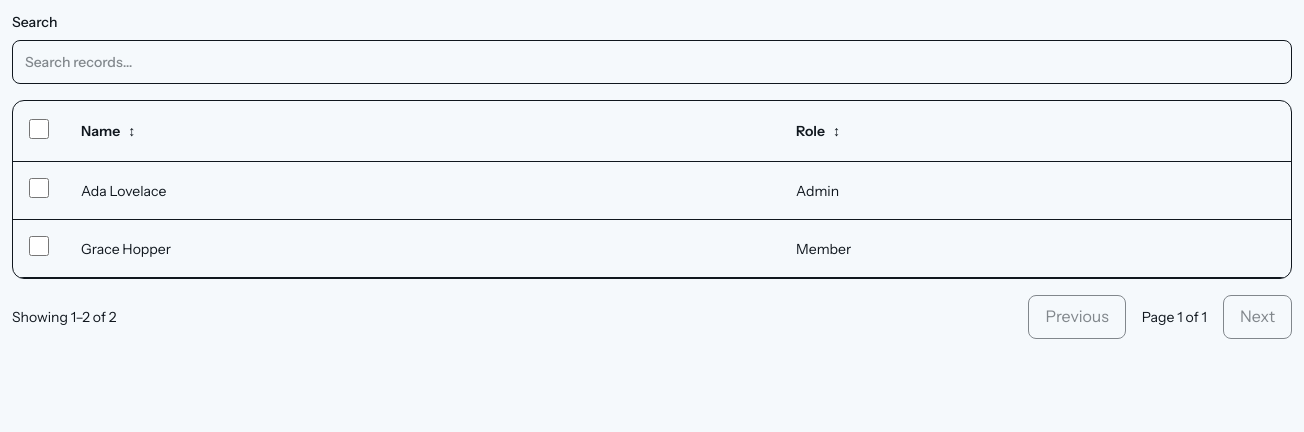
Test case: ResponsiveDataExplorer accessibility › has no axe violations with selected rows and bulk actions
Click the checkbox named "Select row 1". click: click(39, 188)
box: x1=29 y1=178 x2=49 y2=198
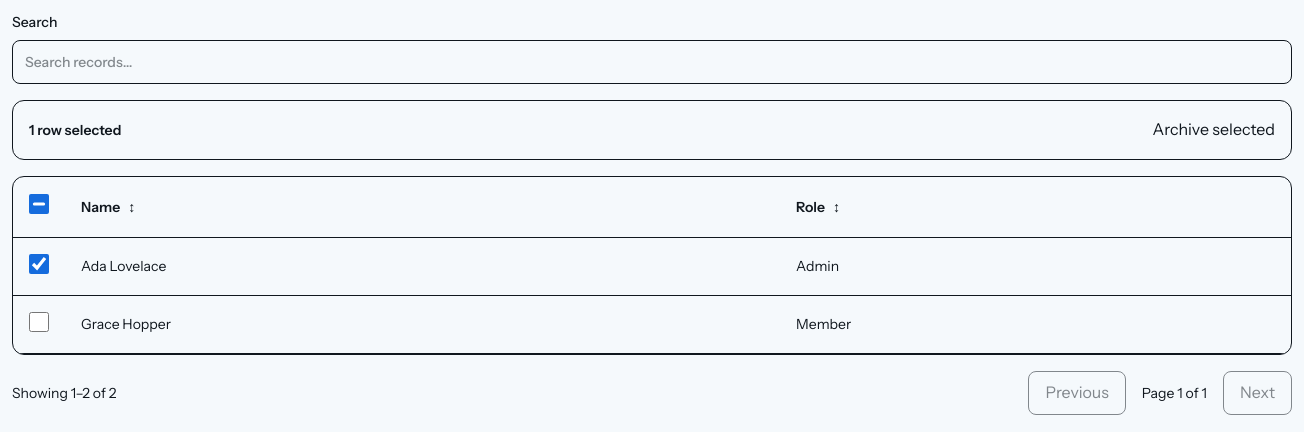
Check: the button "Archive selected" is shown, box x1=1153 y1=117 x2=1275 y2=143
